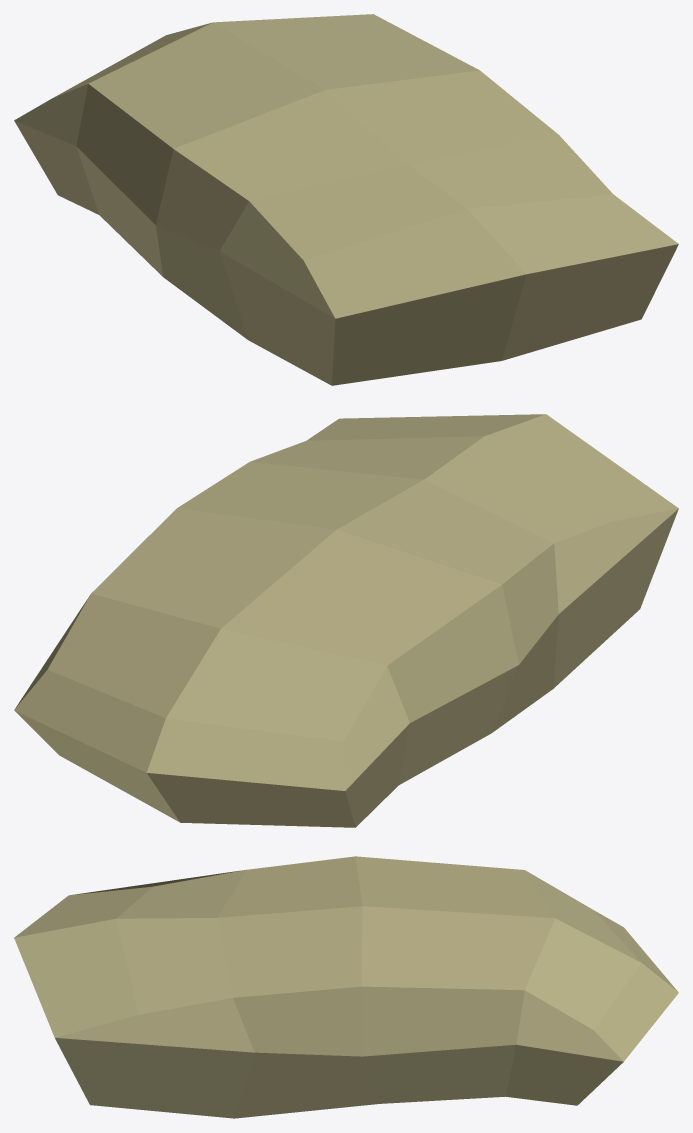
File: vrece.fbx
3 views of the same model, one above another, from view 1: azimuth 30°, elevation 25°; view 2: azimuth 150°, elevation 25°; view 3: azimuth 270°, elevation 25° (orthographic). The views are drawn at different scales.
Parts seen in each view (by area): view 1: vrece_2; view 2: vrece_2; view 3: vrece_2.
Boxes of the visible parts, bbox=[...] form: vrece_2: bbox=[14, 14, 678, 385]; vrece_2: bbox=[14, 414, 678, 827]; vrece_2: bbox=[14, 856, 678, 1118].
Size of the model in its own units: 71.52 by 36 by 137.
